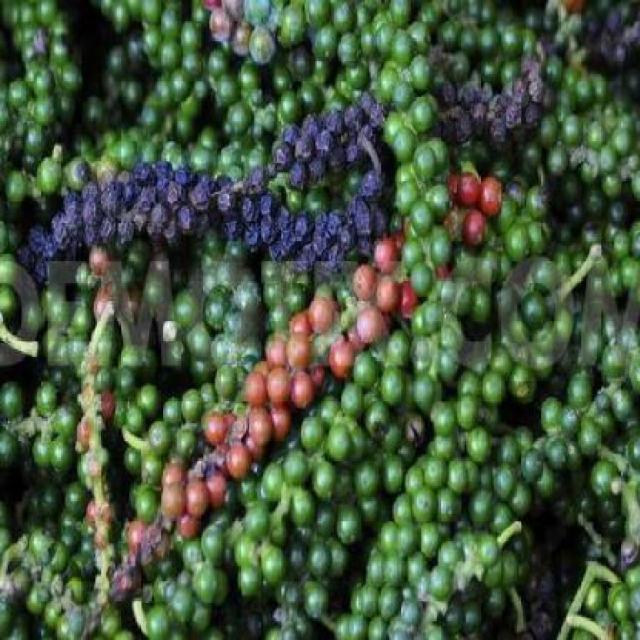RIPE: (259, 271, 359, 423)
UNRIPE: (395, 12, 455, 383)
